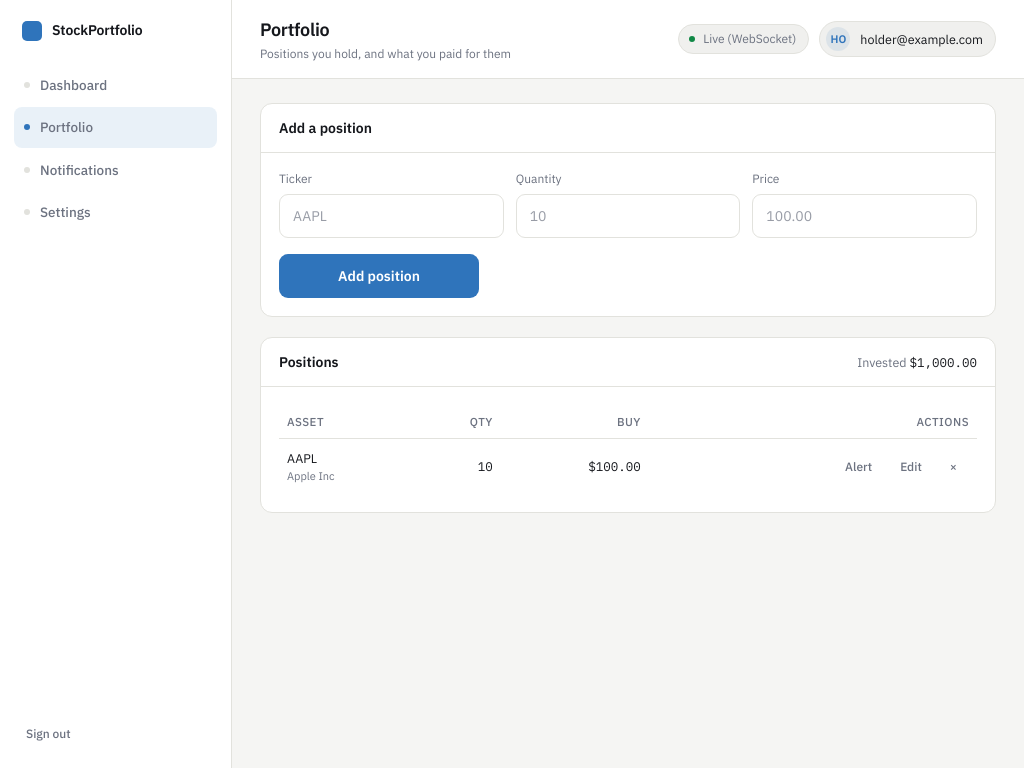
it: ticker search › leaves the form working when search returns nothing
The image size is (1024, 768).
Expected: the heading "Portfolio" is shown, left=260, top=18, right=330, bottom=41
Type "MSFT" into the dropdown labelled "Ticker" at (391, 216), box left=279, top=194, right=504, bottom=238
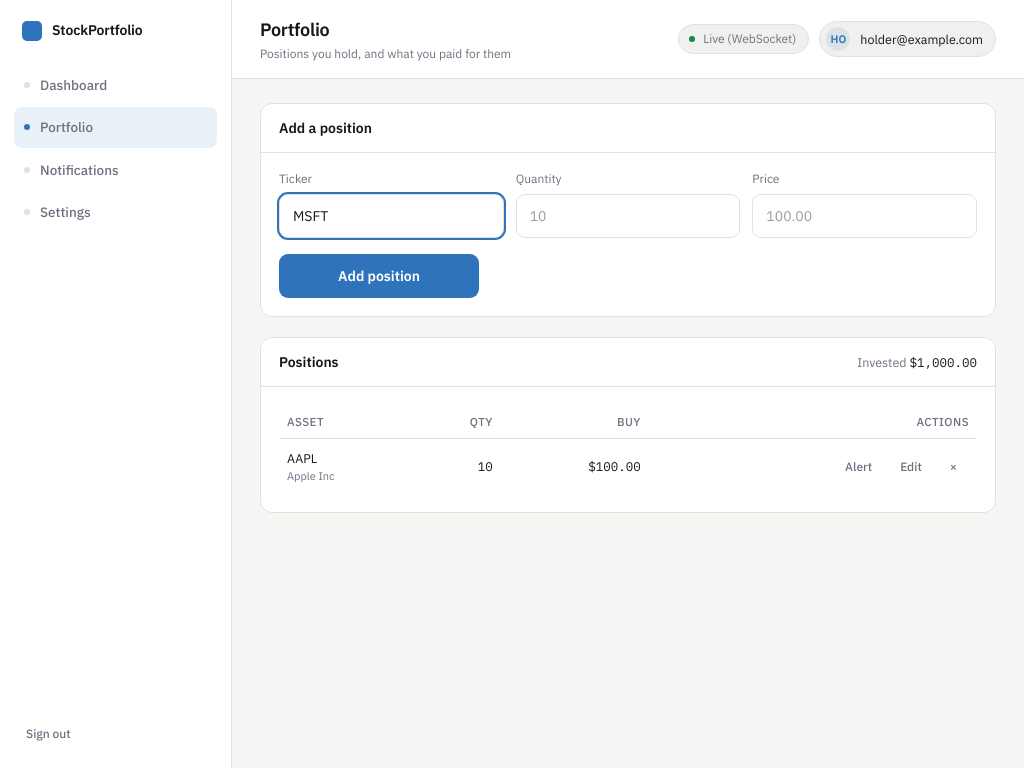
Type "5" into the number field labelled "Quantity" at (628, 216), box left=516, top=194, right=740, bottom=238
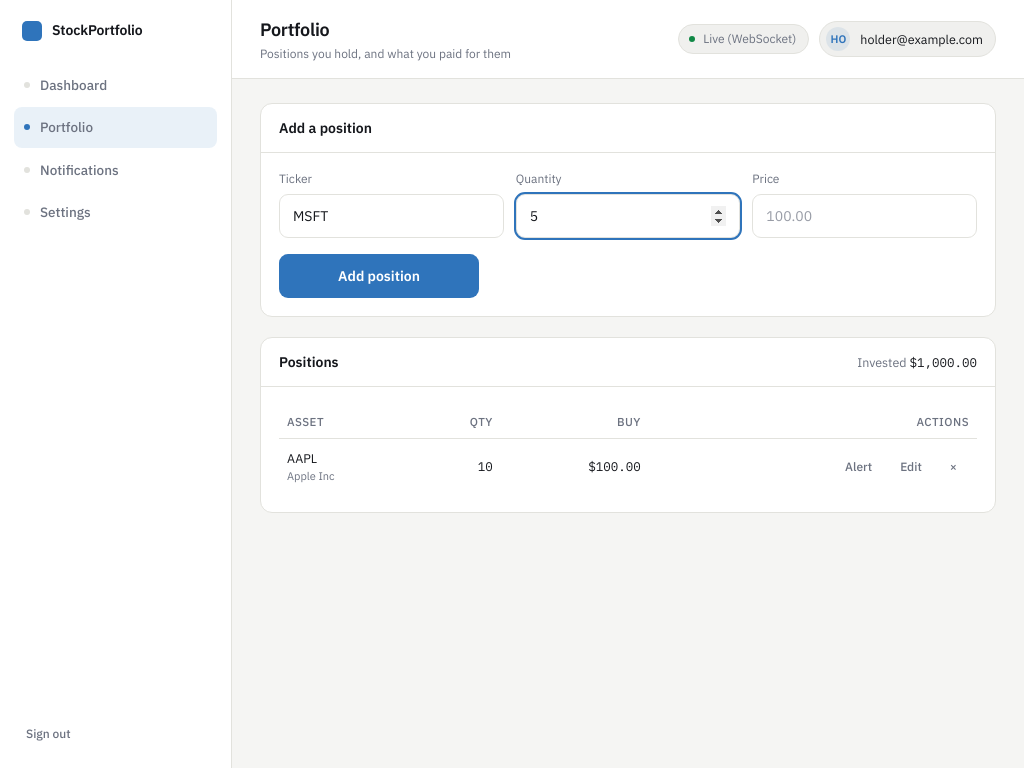
Type "300" into the number field labelled "Price" at (865, 216), box left=752, top=194, right=977, bottom=238
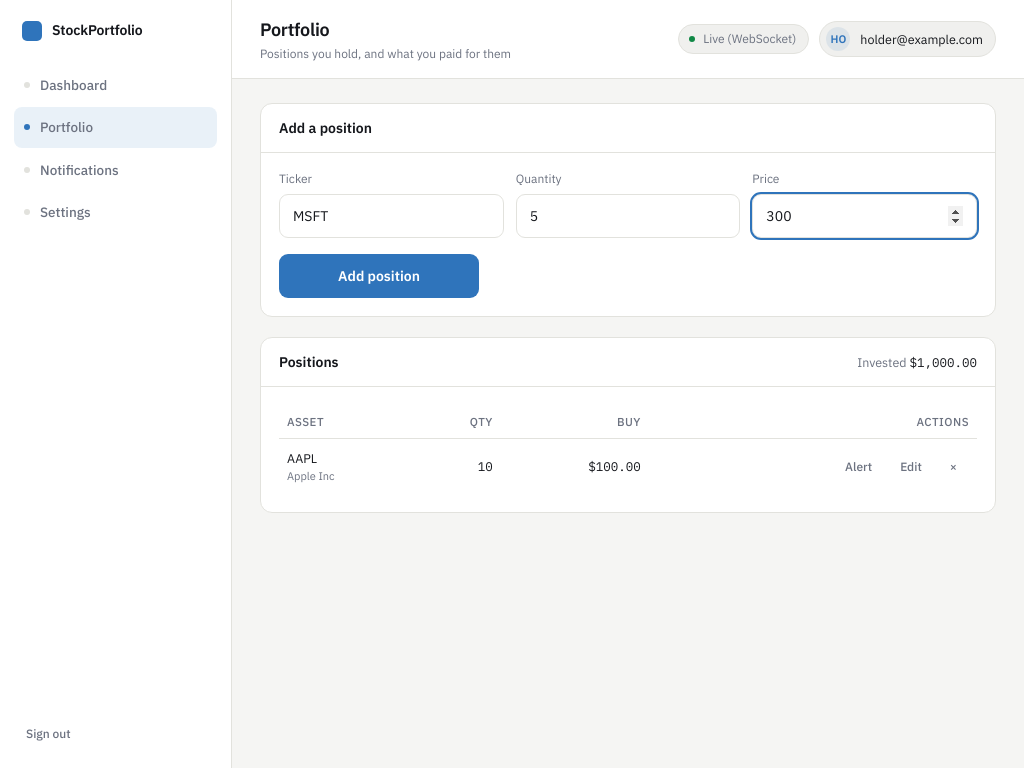
Click the button "Add position" at (379, 276), box left=279, top=254, right=479, bottom=298
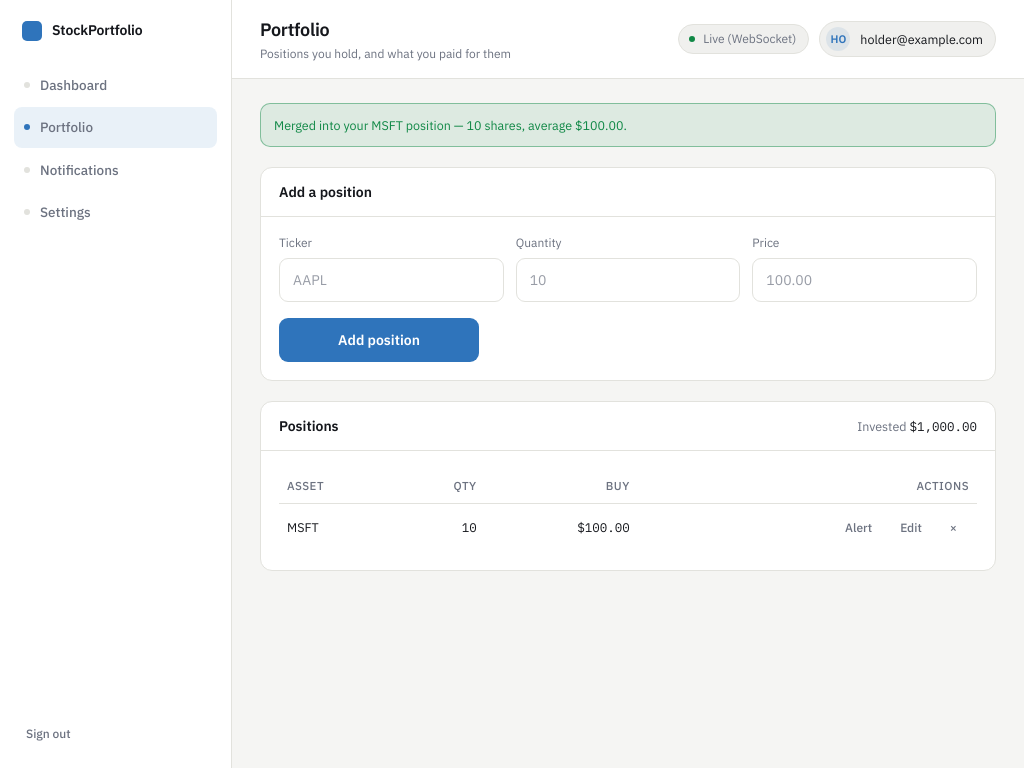
Expected: the text "MSFT" is shown, left=287, top=519, right=319, bottom=535
